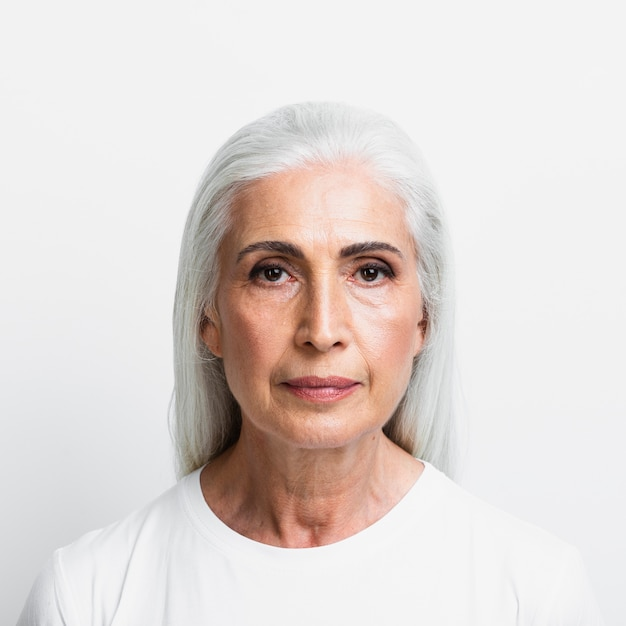young: (185, 100, 444, 493)
